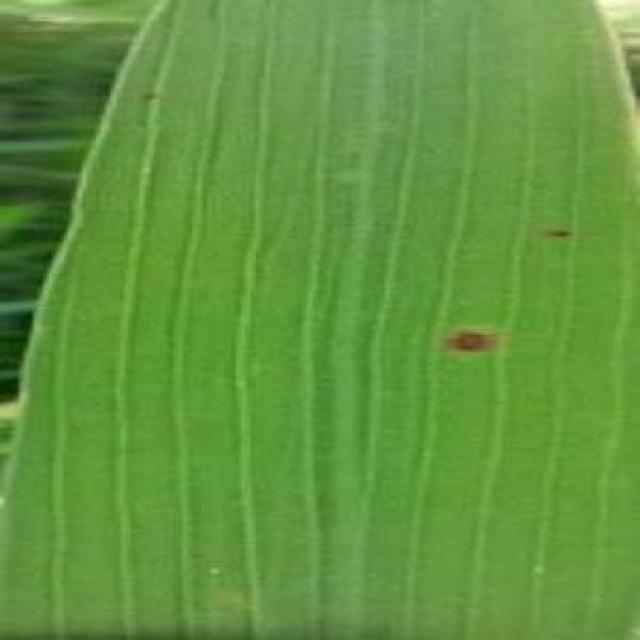Brown_Spot: (435, 312, 505, 370), (543, 219, 581, 250), (197, 0, 231, 26), (138, 84, 162, 111)
